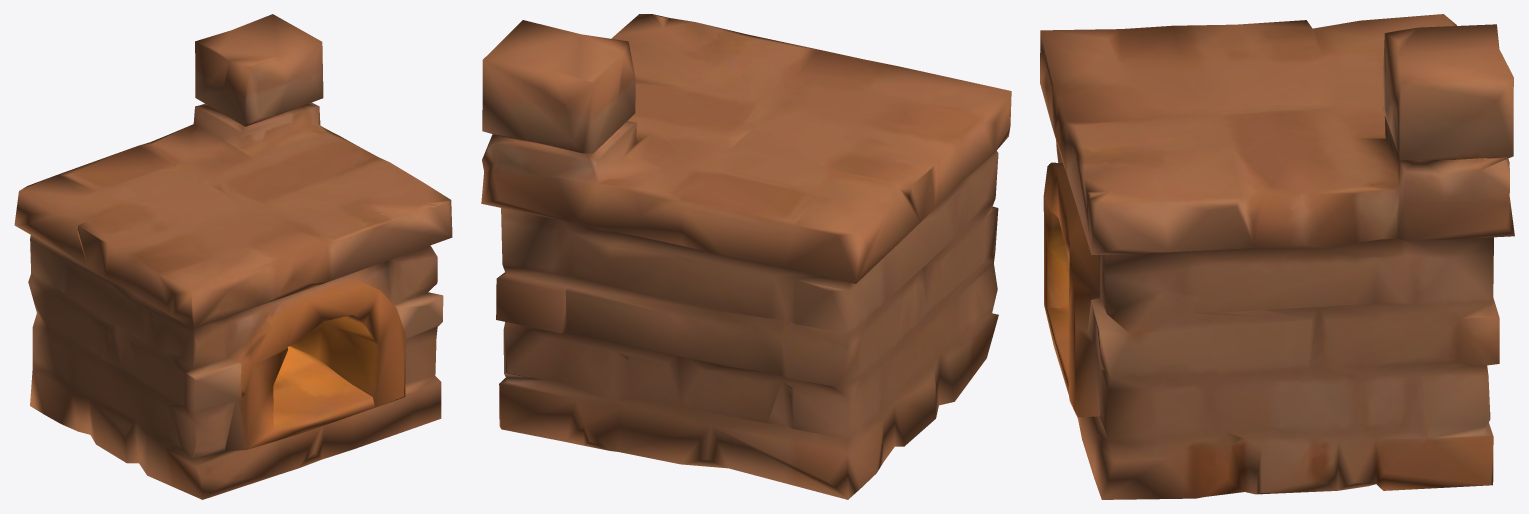
The model's file is oven.glb.
3 renders of one model, left to right at view 1: azimuth 30°, elevation 25°; view 2: azimuth 150°, elevation 25°; view 3: azimuth 270°, elevation 25°, orthographic. The views are drawn at different scales.
Parts seen in each view (by area): view 1: tripo_node_8ecef8e0-5f68-4ce0-945e-a963ce503be3; view 2: tripo_node_8ecef8e0-5f68-4ce0-945e-a963ce503be3; view 3: tripo_node_8ecef8e0-5f68-4ce0-945e-a963ce503be3.
Part boxes in pixels (x1,y1,x2,y2): tripo_node_8ecef8e0-5f68-4ce0-945e-a963ce503be3: (14, 14, 452, 499); tripo_node_8ecef8e0-5f68-4ce0-945e-a963ce503be3: (481, 14, 1011, 499); tripo_node_8ecef8e0-5f68-4ce0-945e-a963ce503be3: (1040, 14, 1514, 499).
Bounding box in the file's own units: 1 × 0.9632 × 0.981.
Materials: 1 (1 with a texture image).
